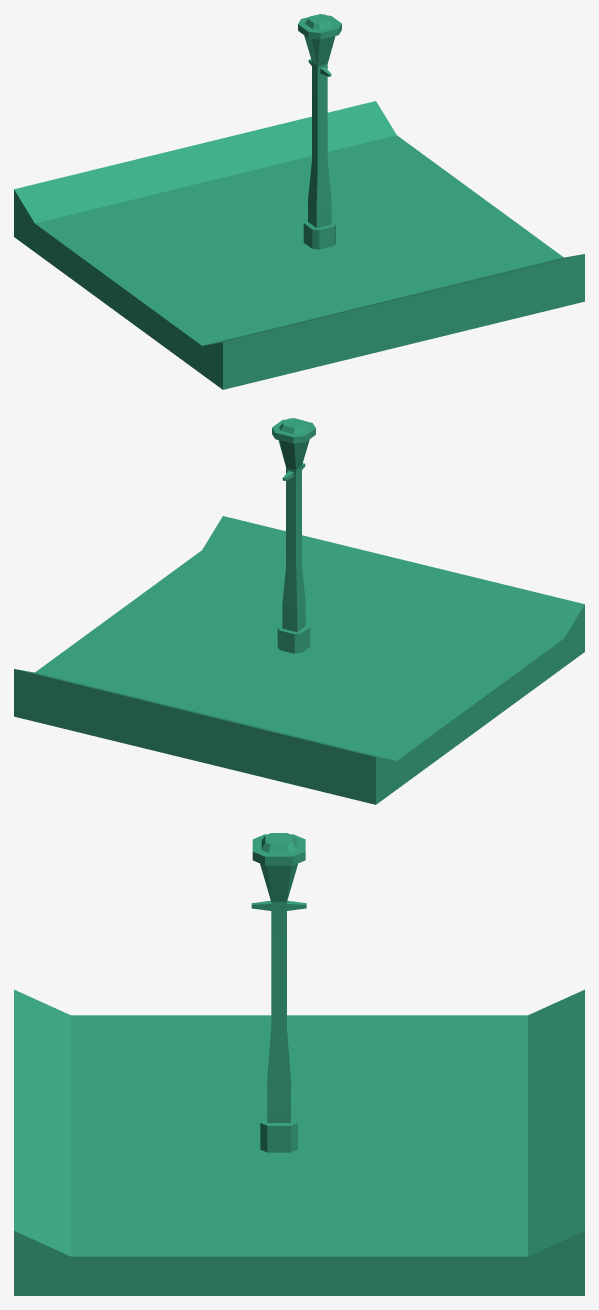
The model's file is helipad.glb.
3 renders of one model, top to bottom at view 1: azimuth 30°, elevation 25°; view 2: azimuth 150°, elevation 25°; view 3: azimuth 270°, elevation 25°, orthographic. The views are drawn at different scales.
Size of the model in its own units: 14 by 9.34 by 14.
